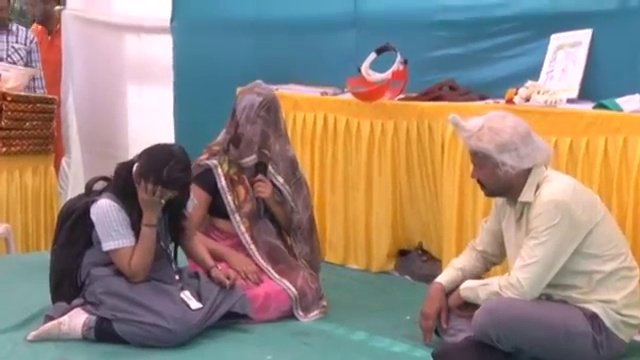helmet: (0, 64, 40, 97)
helmet_off: (459, 114, 544, 206), (117, 144, 191, 211), (226, 87, 287, 161), (30, 0, 59, 30), (0, 1, 18, 26)
person: (412, 107, 640, 358), (20, 143, 227, 343), (172, 87, 321, 325), (30, 8, 74, 165), (0, 0, 45, 103)
